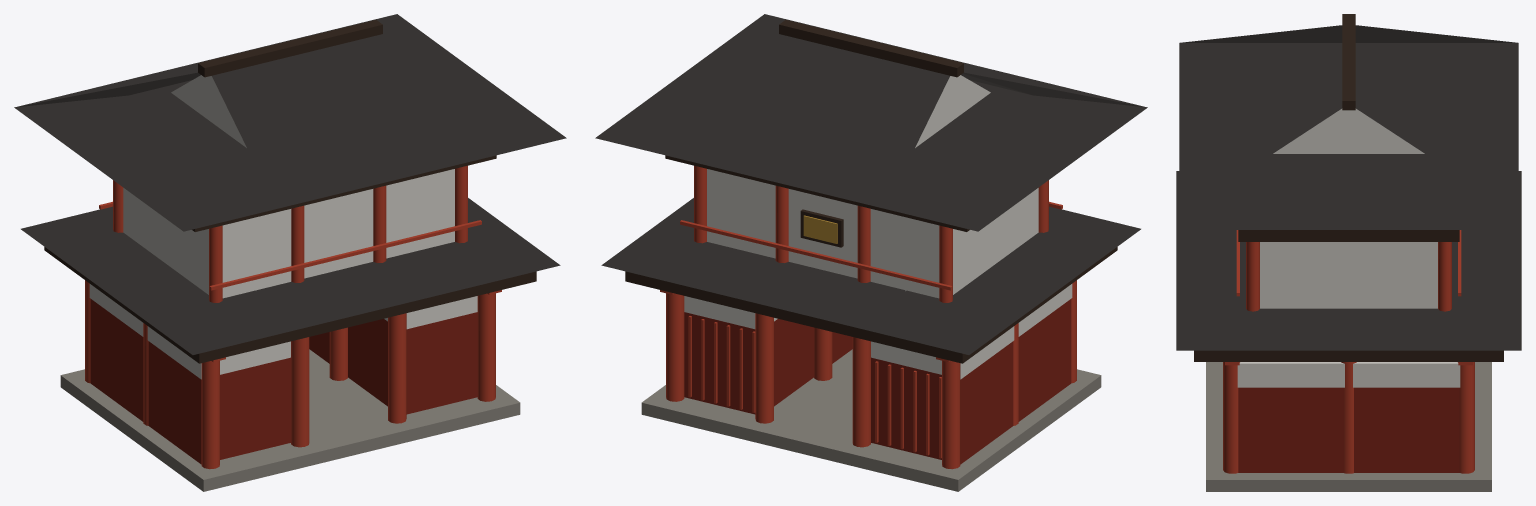
Rendered from nishiromon.glb.
3 renders of one model, left to right at view 1: azimuth 30°, elevation 25°; view 2: azimuth 150°, elevation 25°; view 3: azimuth 270°, elevation 25°, orthographic.
Size of the model in its own units: 15 by 13.35 by 11.7.
